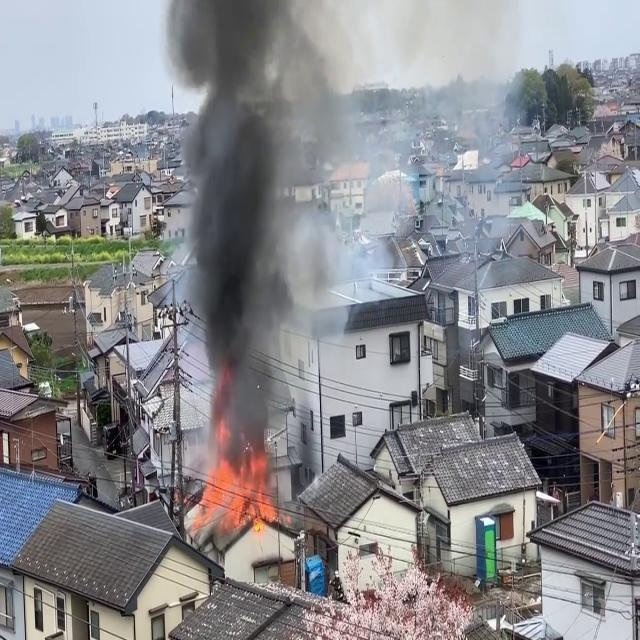Fire: (189, 450, 279, 535)
Smoke: (164, 0, 328, 465)
